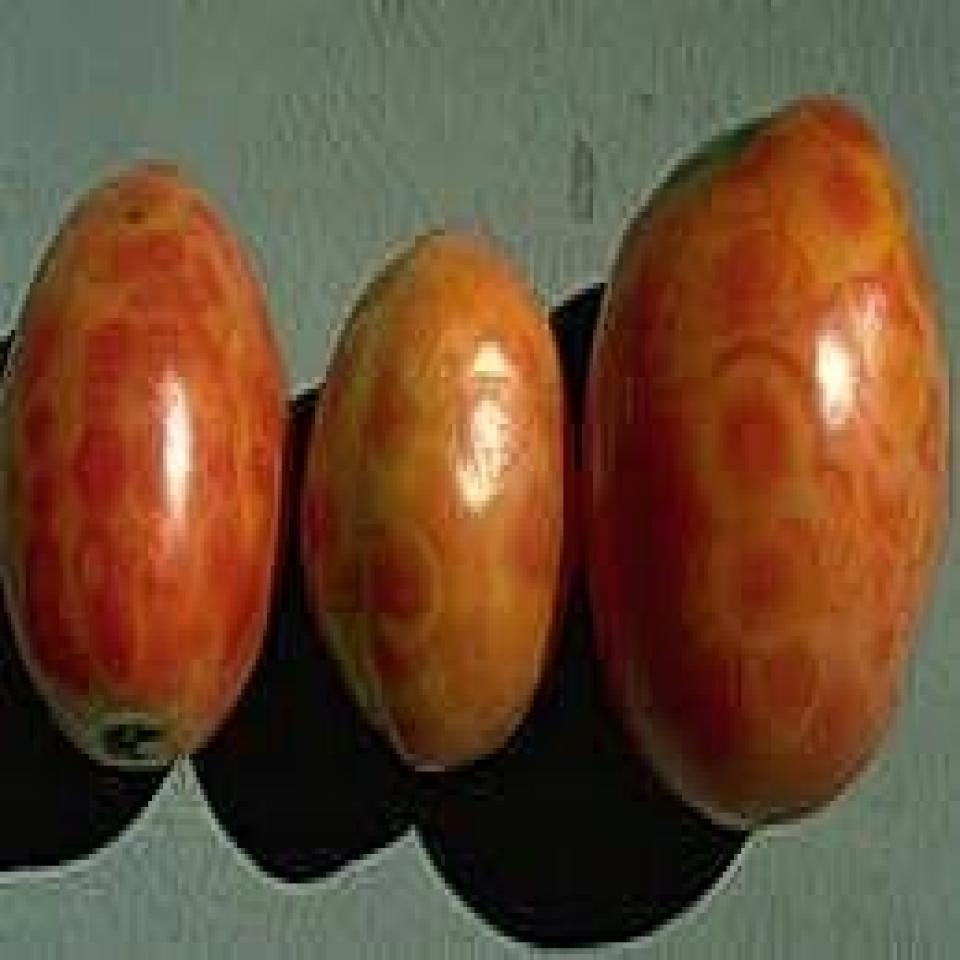Spotted wilt Virus: (586, 94, 956, 826), (0, 167, 289, 777), (301, 214, 576, 772)
